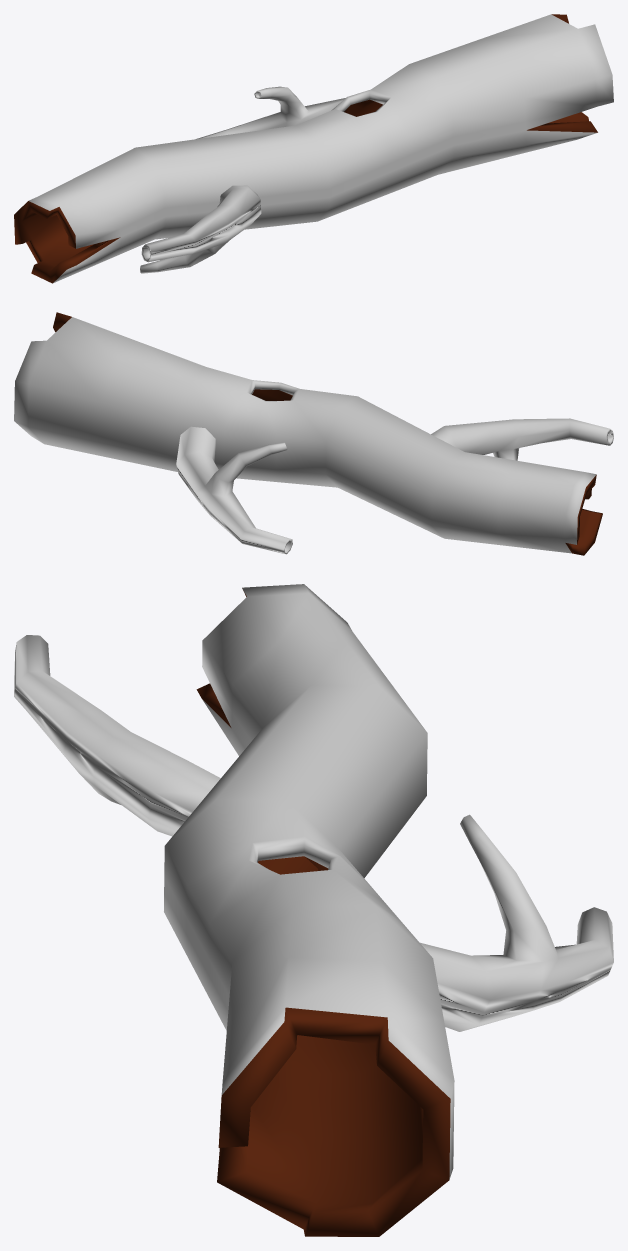
File: log.obj
3 renders of one model, top to bottom at view 1: azimuth 30°, elevation 25°; view 2: azimuth 150°, elevation 25°; view 3: azimuth 270°, elevation 25°, orthographic. The views are drawn at different scales.
Bounding box in the file's own units: 2.71 × 0.5309 × 1.31.
